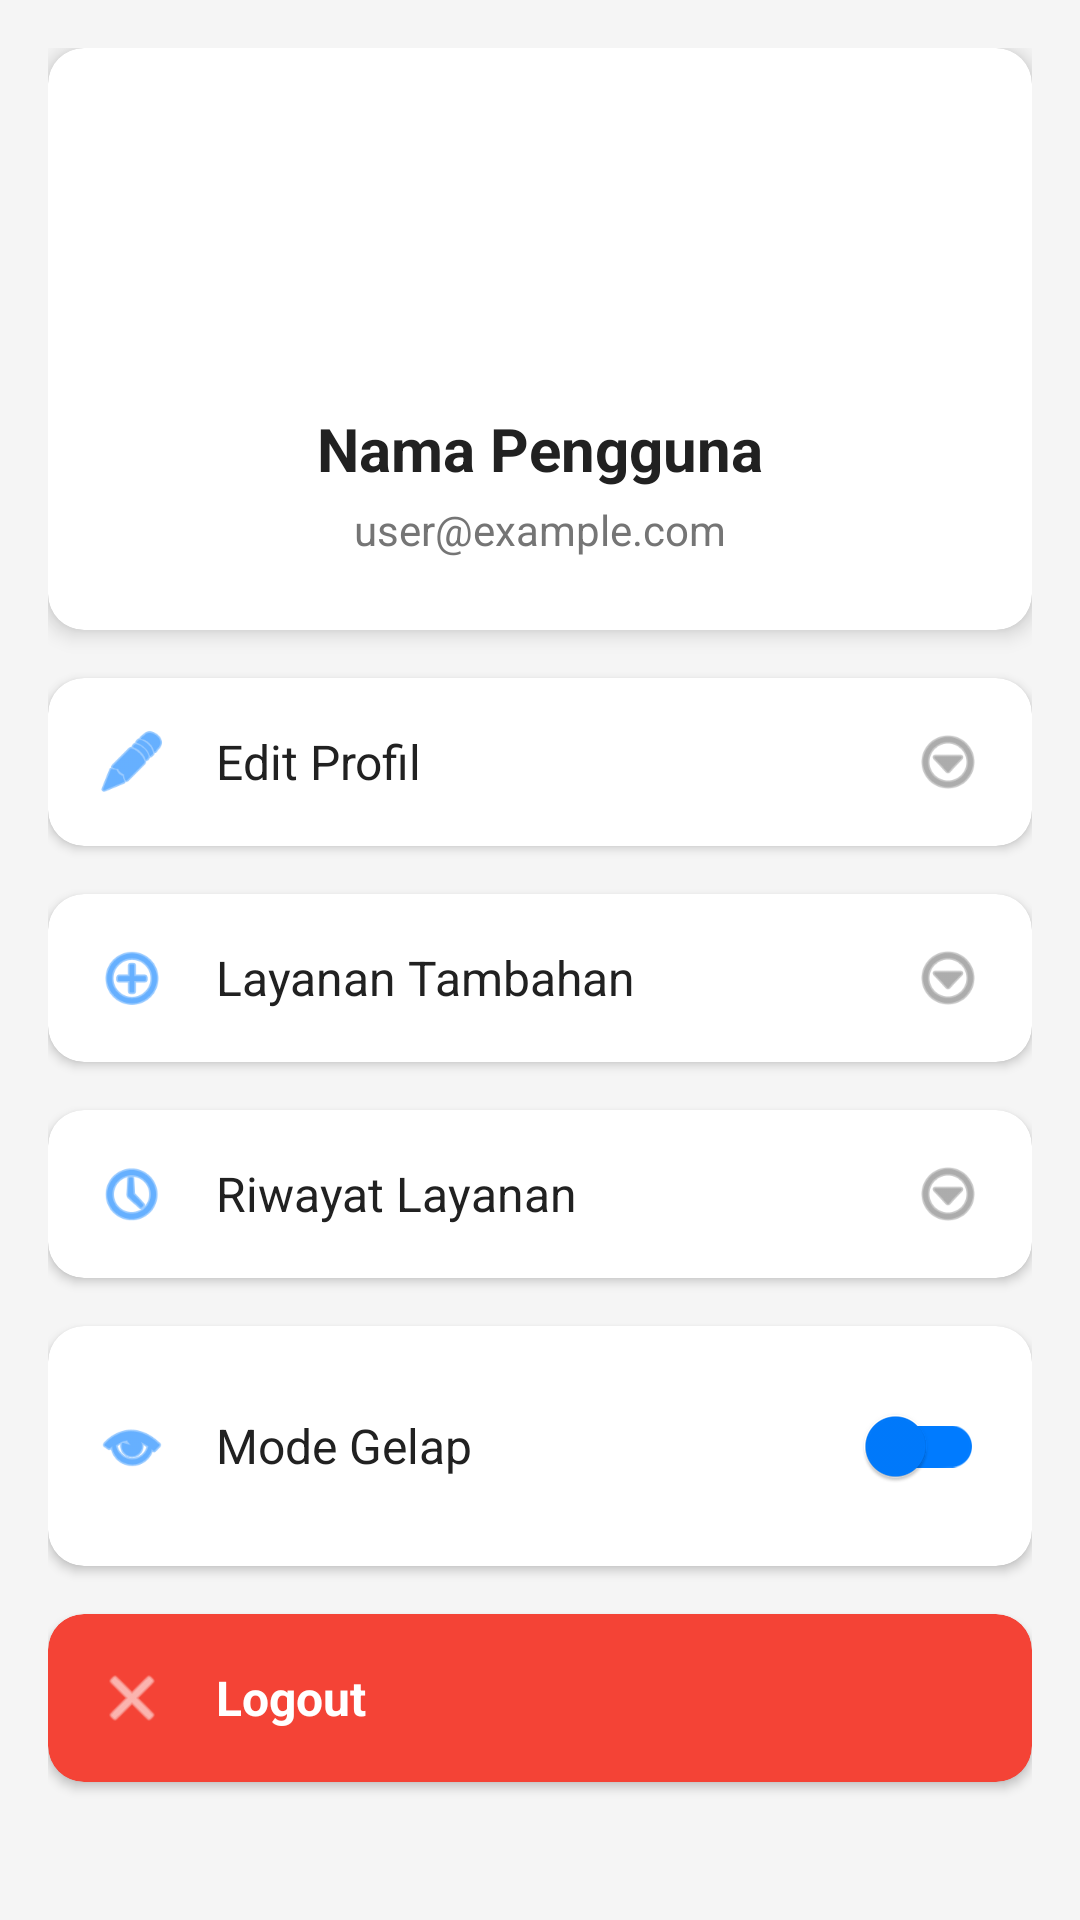

Locate icon controls on the screen. Image size 1080 x 1920, boxes as (x1, y1, x2, y2).
add: (105, 952, 159, 1005)
close clear cancel: (110, 1676, 154, 1720)
more: (921, 736, 975, 788), (921, 952, 975, 1004), (921, 1168, 975, 1220)
recent history: (105, 1168, 158, 1220)
view: (103, 1429, 161, 1466)
